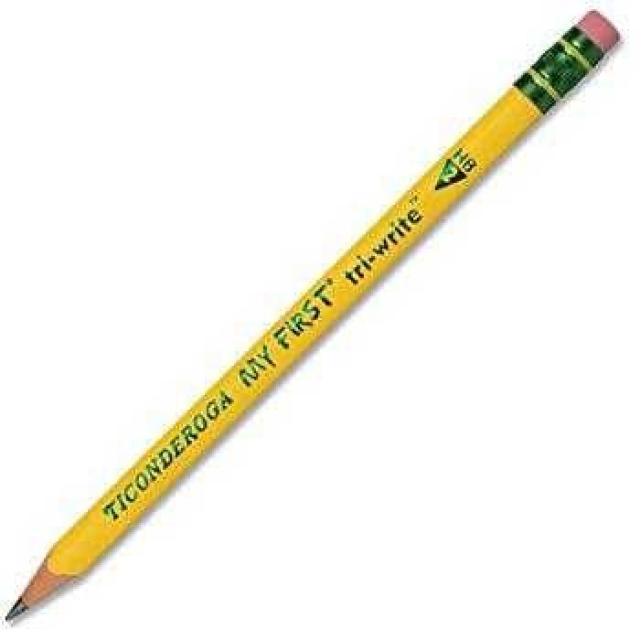pencil: (0, 4, 637, 635)
